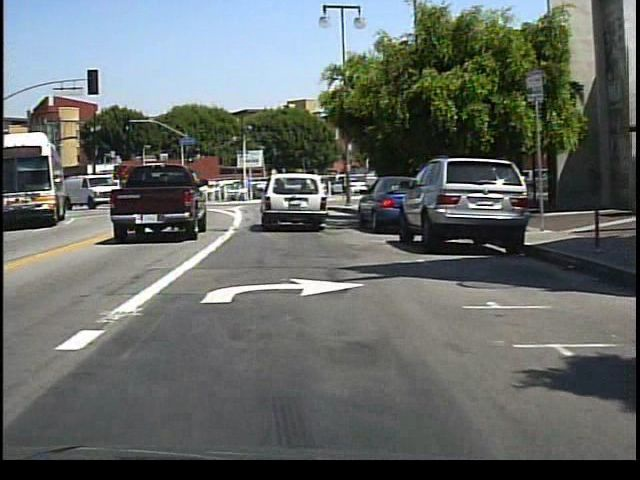person: (343, 176, 347, 203)
